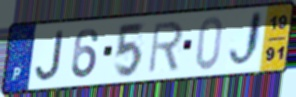0: (194, 15, 224, 72)
5: (111, 20, 147, 79)
6: (71, 27, 101, 80)
J: (227, 9, 265, 72), (33, 28, 65, 83)
R: (146, 19, 185, 75)
